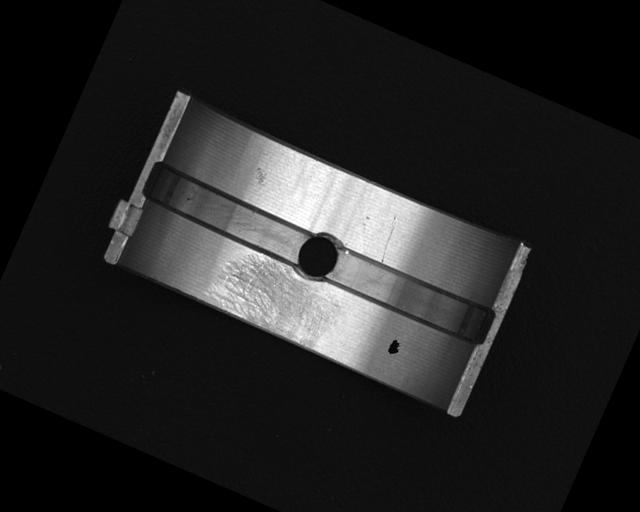blot: (385, 336, 404, 358)
bruise: (249, 164, 270, 186)
gap: (137, 160, 316, 269), (322, 243, 497, 350)
hole: (289, 222, 348, 290)
nick: (375, 223, 398, 263)
scratch: (202, 240, 351, 355)
